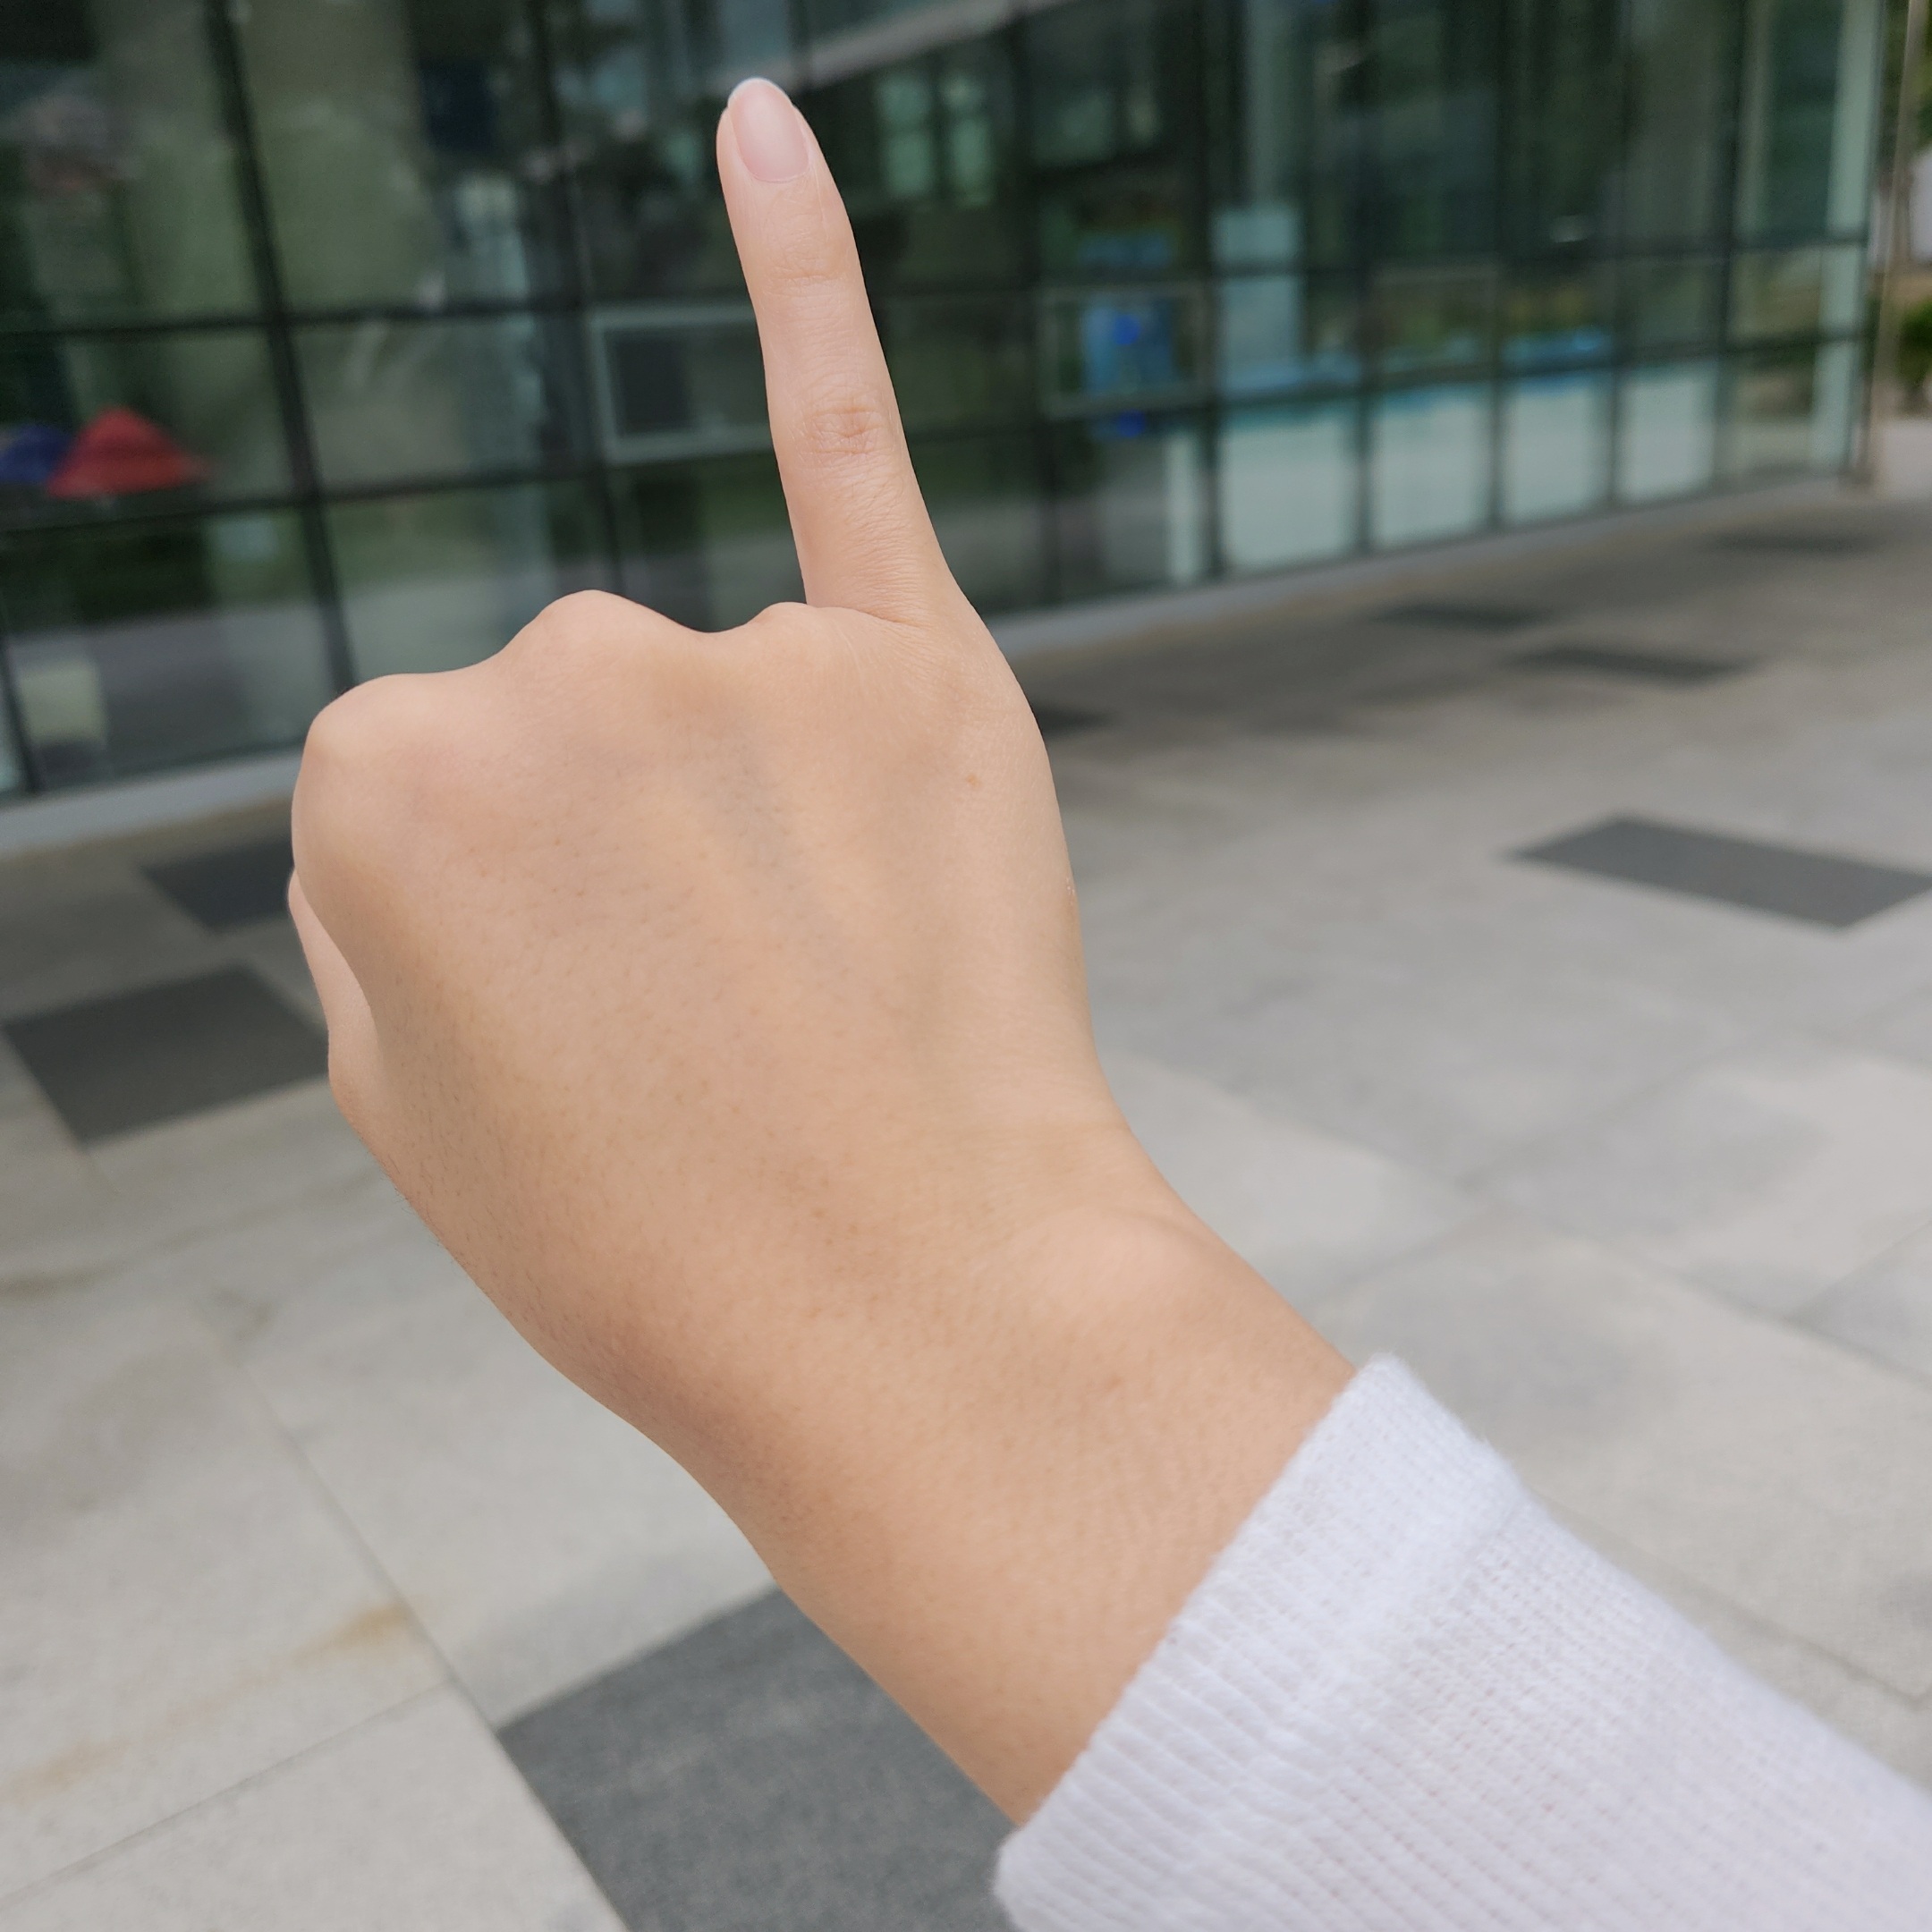fine: (288, 73, 1092, 1419)
